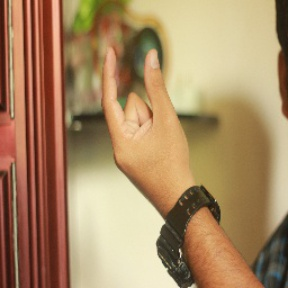U: (99, 41, 185, 196)
